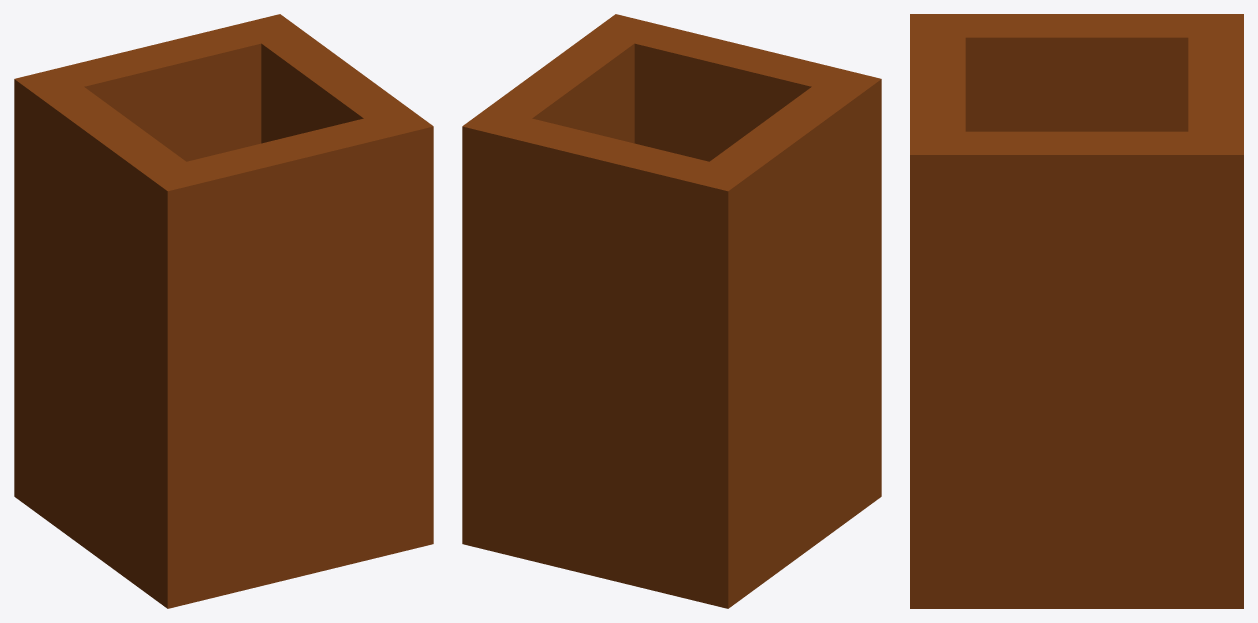
The model's file is chimney_top_2.fbx.
3 views of the same model, side by side, from view 1: azimuth 30°, elevation 25°; view 2: azimuth 150°, elevation 25°; view 3: azimuth 270°, elevation 25° (orthographic). The views are drawn at different scales.
Visible parts, largest first — view 1: Mesh1_Chimney3_1 Model; view 2: Mesh1_Chimney3_1 Model; view 3: Mesh1_Chimney3_1 Model.
Boxes of the visible parts, x1=… form: Mesh1_Chimney3_1 Model: x1=14, y1=14, x2=433, y2=608; Mesh1_Chimney3_1 Model: x1=462, y1=14, x2=881, y2=608; Mesh1_Chimney3_1 Model: x1=910, y1=14, x2=1243, y2=608.
Bounding box in the file's own units: 0.3 × 0.45 × 0.3.
